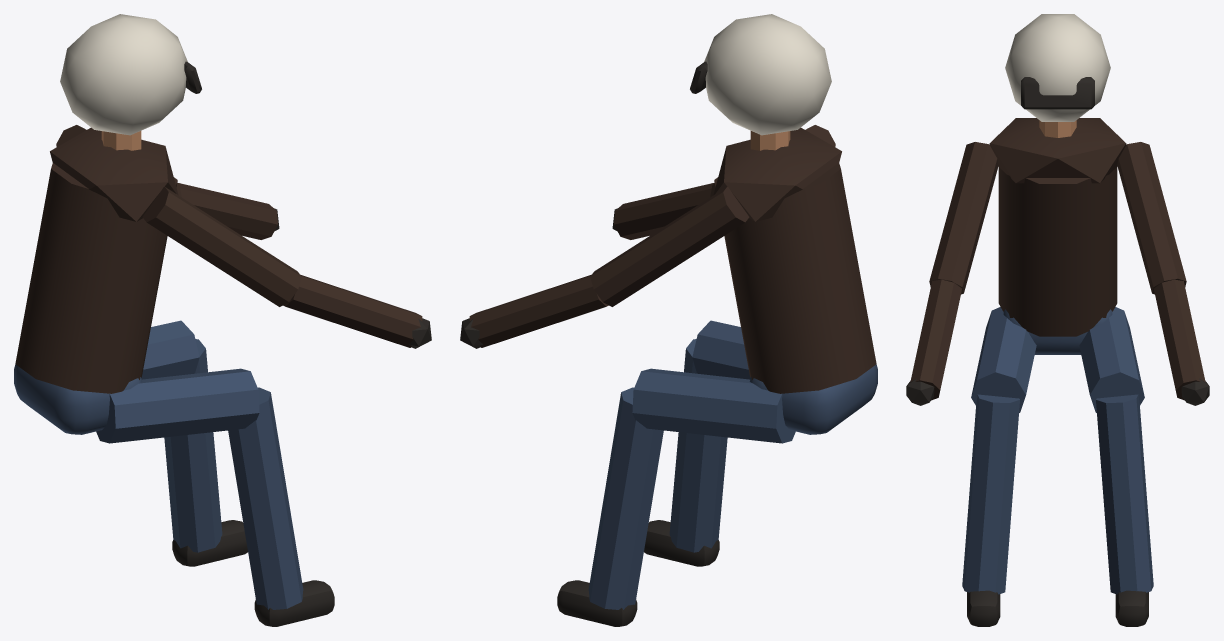
File: rider_cub.glb
3 renders of one model, left to right at view 1: azimuth 30°, elevation 25°; view 2: azimuth 150°, elevation 25°; view 3: azimuth 270°, elevation 25°, orthographic. The views are drawn at different scales.
Visible parts, largest first — view 1: Rider_Cub; view 2: Rider_Cub; view 3: Rider_Cub.
Boxes of the visible parts, x1,y1,x2,y2 form: Rider_Cub: (14, 14, 431, 626); Rider_Cub: (460, 14, 877, 626); Rider_Cub: (906, 14, 1209, 626).
Bounding box in the file's own units: 0.9195 × 1.61 × 0.8166.
